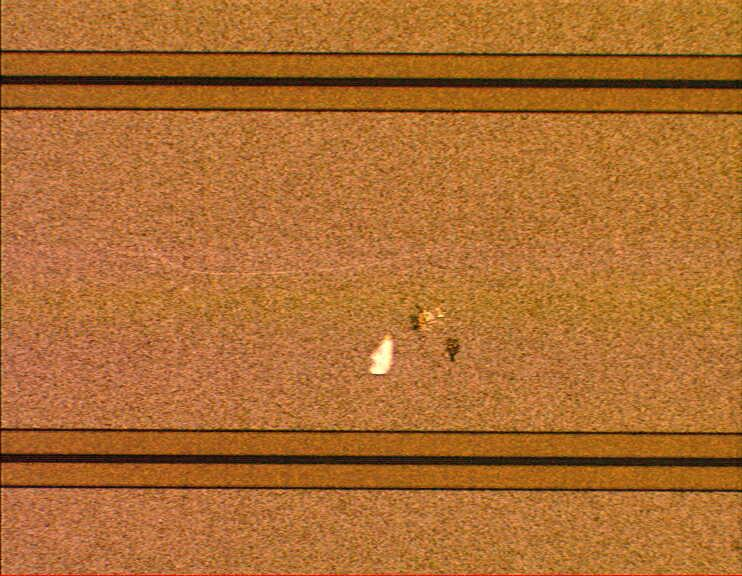SCRATCH: (341, 300, 492, 384)
